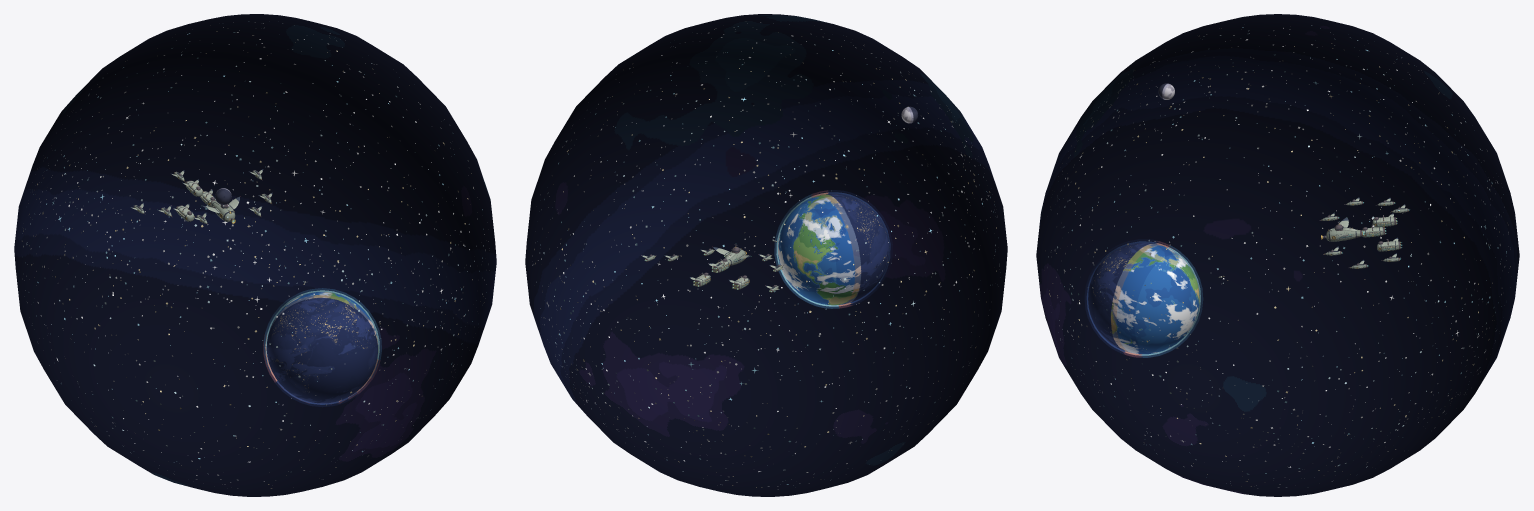
The model's file is prologue_space.glb.
3 renders of one model, left to right at view 1: azimuth 30°, elevation 25°; view 2: azimuth 150°, elevation 25°; view 3: azimuth 270°, elevation 25°, orthographic.
Visible parts, largest first — view 1: starfield_dome, earth_surface, starfield_stars, earth_atmo_out, earth_atmo_in, fleet_escorts_body; view 2: starfield_dome, earth_surface, starfield_stars, earth_atmo_out, earth_atmo_in; view 3: starfield_dome, earth_surface, starfield_stars, earth_atmo_out, earth_atmo_in, fleet_escorts_body, fleet_transports_body.
Boxes of the visible parts, <box> form: starfield_dome: <box>14,14,496,496</box>; earth_surface: <box>266,291,378,403</box>; starfield_stars: <box>22,21,489,488</box>; earth_atmo_out: <box>263,288,381,406</box>; earth_atmo_in: <box>265,290,379,404</box>; fleet_escorts_body: <box>130,169,272,224</box>; starfield_dome: <box>525,14,1007,496</box>; earth_surface: <box>778,193,889,305</box>; starfield_stars: <box>532,22,1000,489</box>; earth_atmo_out: <box>774,190,892,308</box>; earth_atmo_in: <box>776,192,890,306</box>; starfield_dome: <box>1036,14,1519,496</box>; earth_surface: <box>1088,242,1199,354</box>; starfield_stars: <box>1045,25,1510,488</box>; earth_atmo_out: <box>1085,239,1202,357</box>; earth_atmo_in: <box>1086,241,1200,355</box>; fleet_escorts_body: <box>1319,197,1408,268</box>; fleet_transports_body: <box>1362,213,1400,251</box>.
Size of the model in its own units: 865 by 865 by 865.
9 materials, 3 textured.
